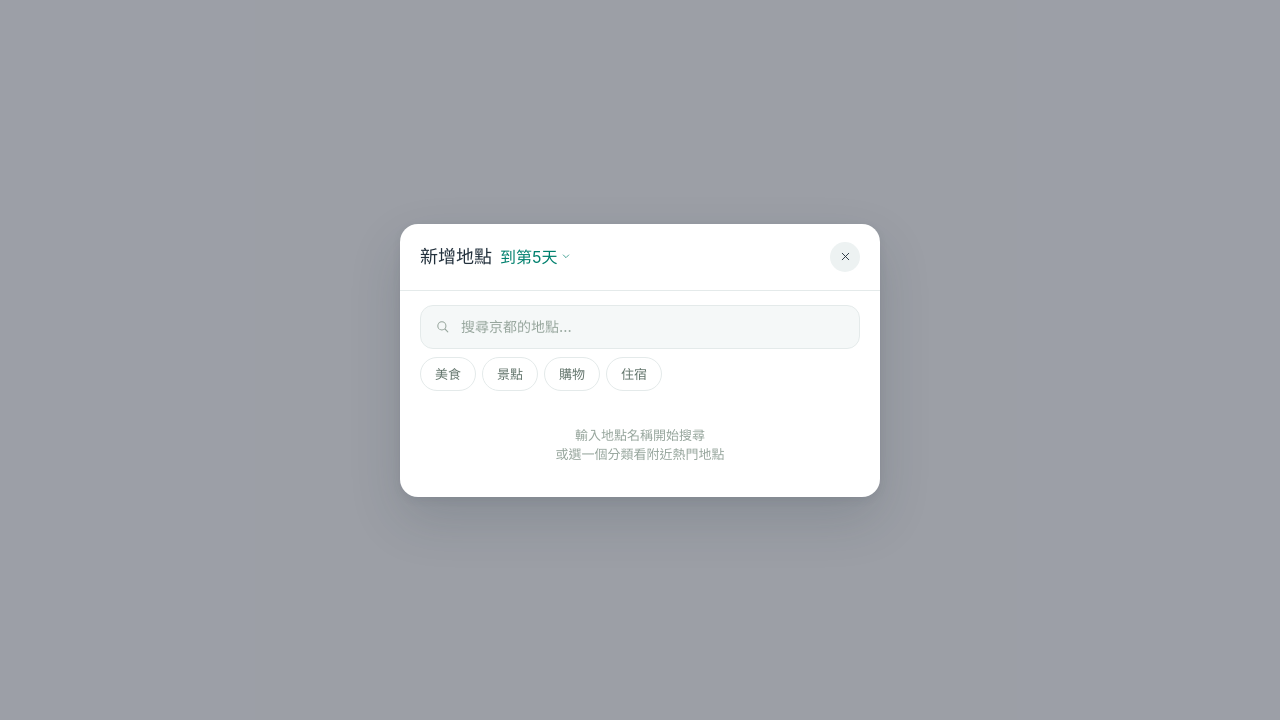
Test: AddPlaceModal › clicking a selected chip again deselects it and clears back to the unfiltered state
Click the button "美食" at (448,374), box [420,356,476,390]
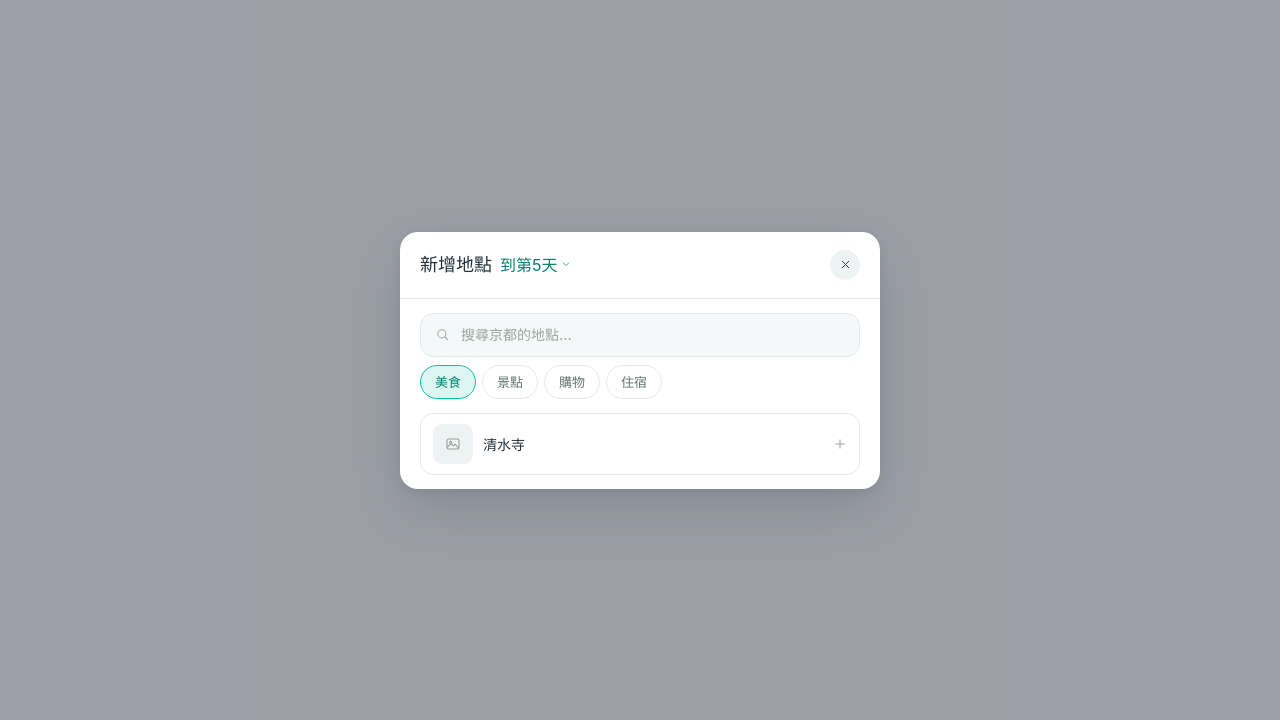
Click the button "美食" at (448,382), box [420,364,476,398]
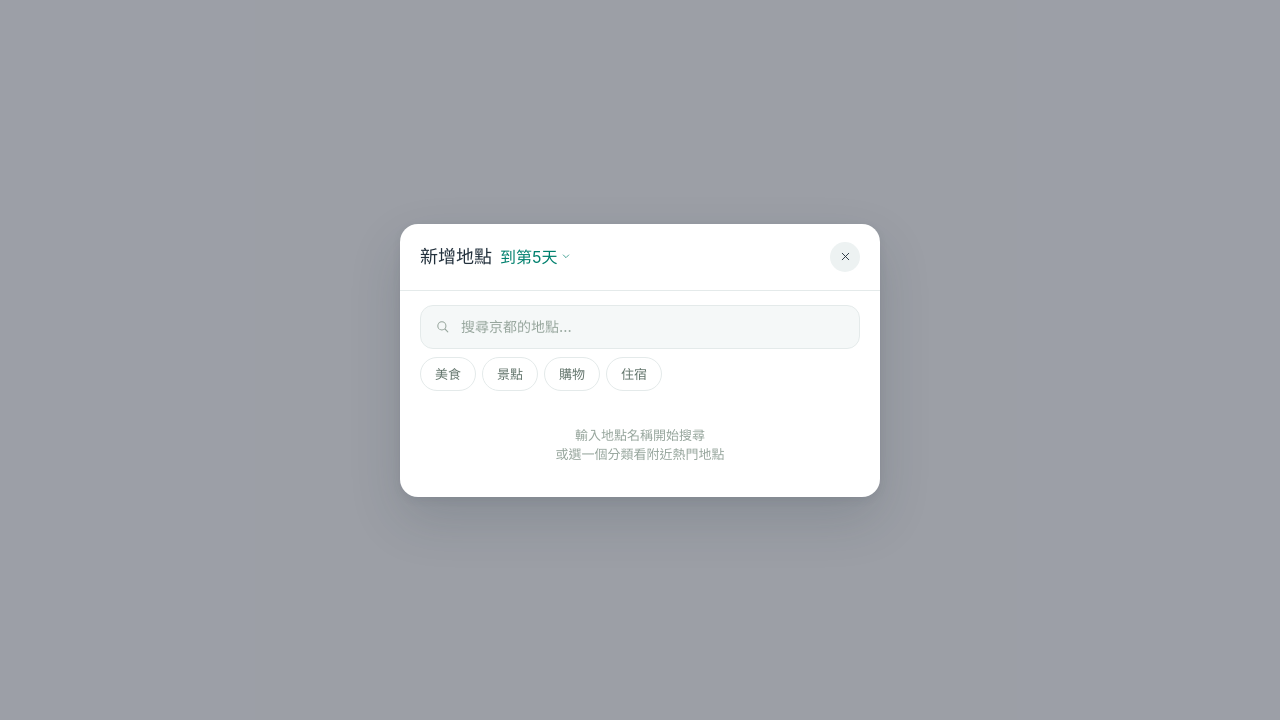
Expected: the text "輸入地點名稱開始搜尋" is shown, [575,426,705,442]
